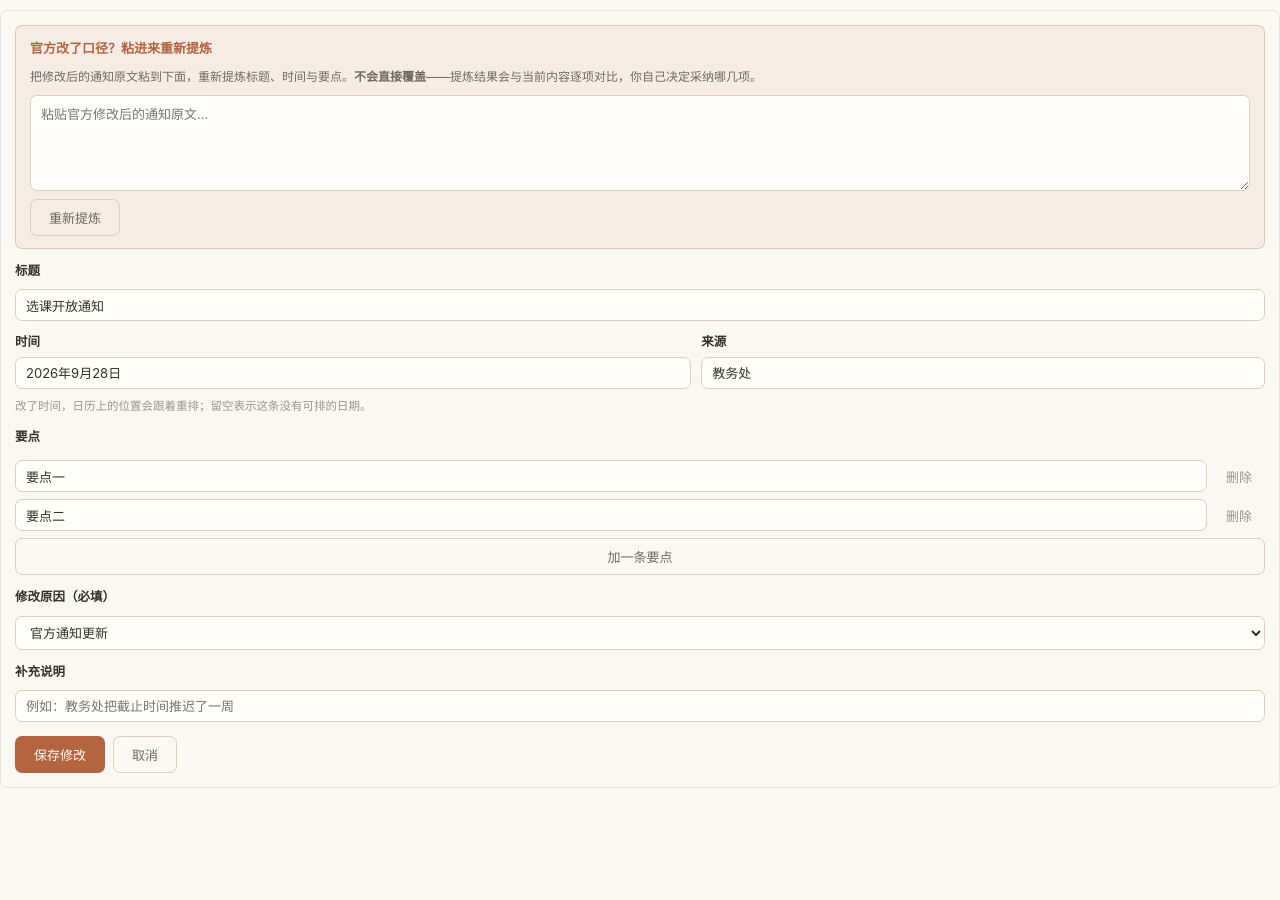
CardEditForm 校验 › 标题为空时阻止提交并提示
This screenshot has width=1280, height=900.
Clear the field labelled "标题" at coordinates (640, 305), box 15,289 -> 1265,321
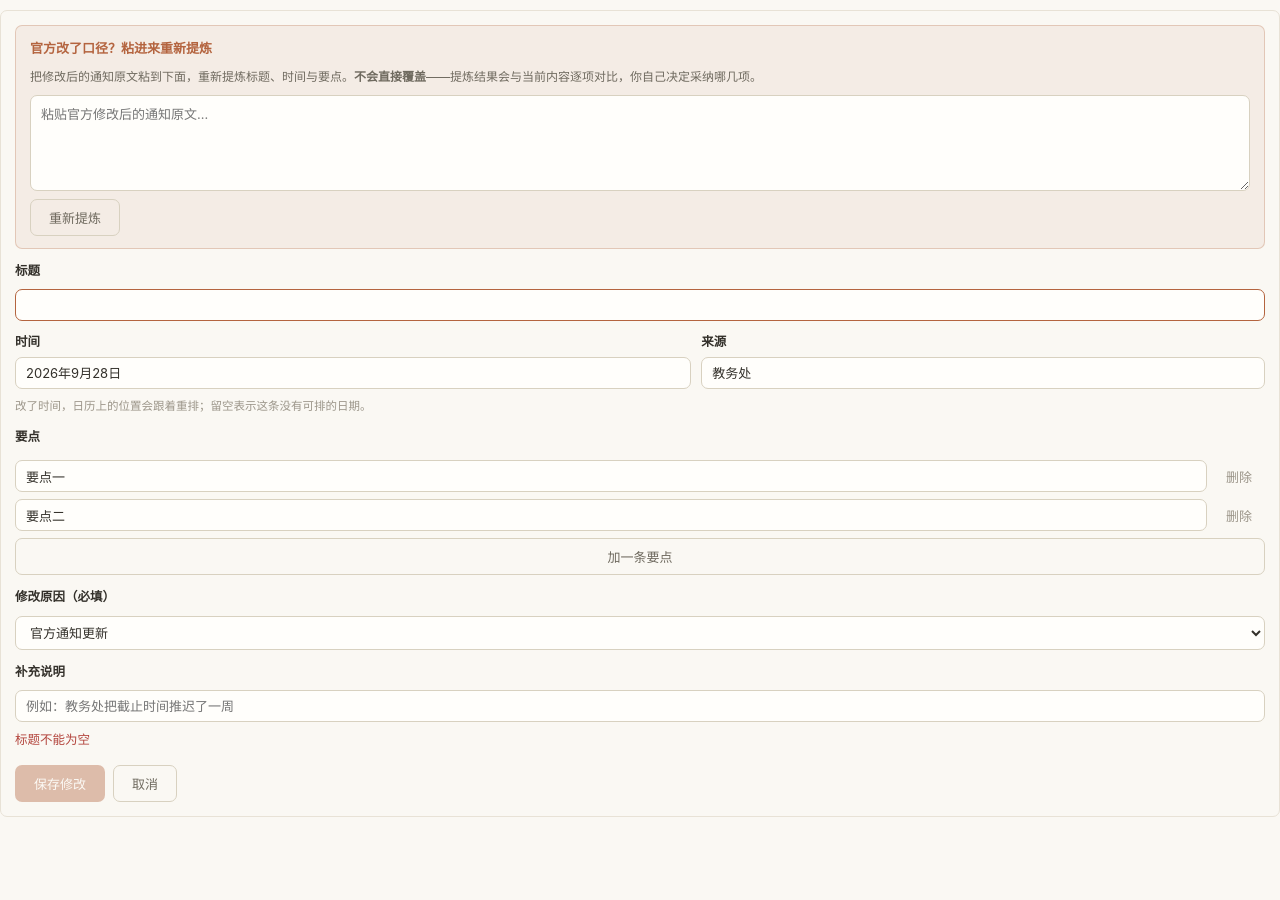
Expected: the text "标题不能为空" is shown, 15,732 -> 90,747
Expected: the button "保存修改" is disabled, 15,765 -> 105,802
